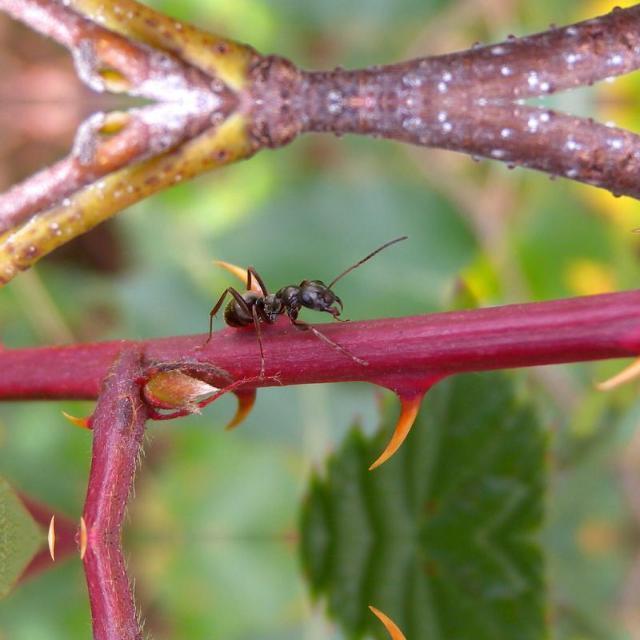Formica: (211, 261, 349, 343)
